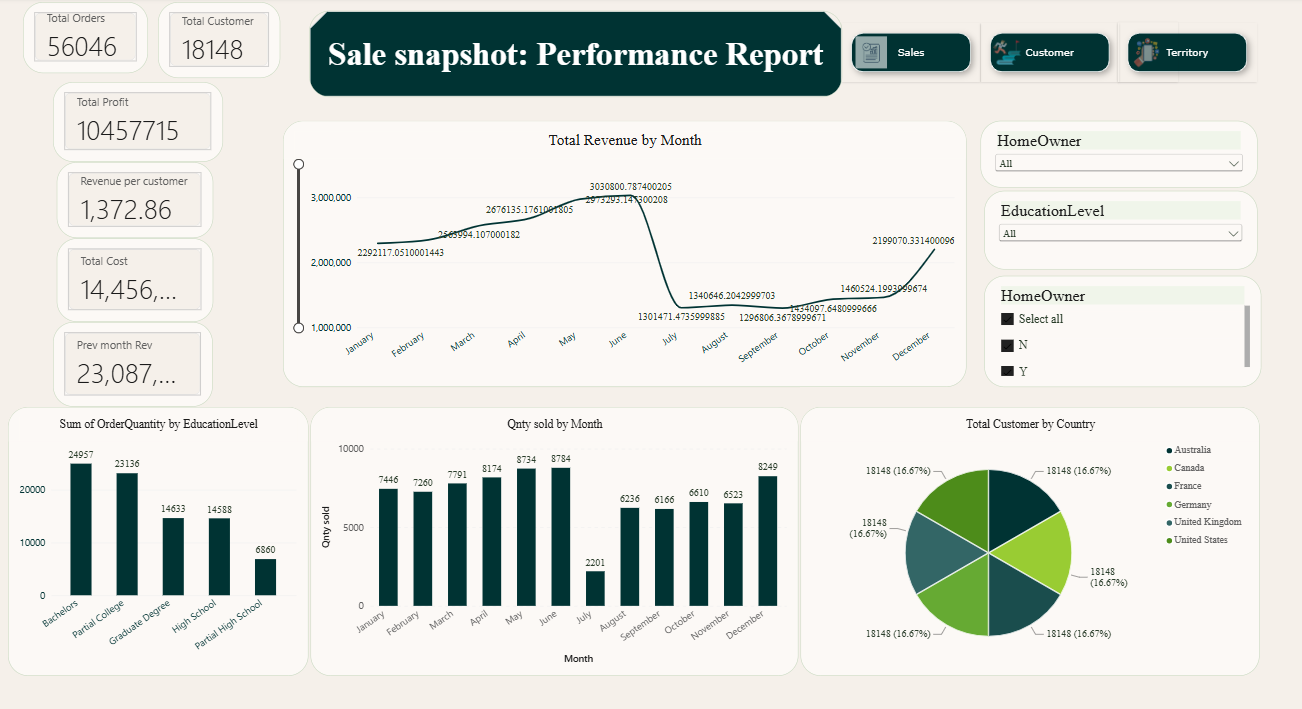

Layout of this report page (visuals, bound fields, positions):
{"tool":"powerbi","page":{"name":"Report","canvas":[1920,1080],"ordinal":0},"visuals":[{"type":"shape","box":[1242,38,204,86],"z":0},{"type":"shape","box":[457.5,20,785,127.5],"z":1000},{"type":"shape","box":[1446,38,204,86],"z":2000},{"type":"shape","box":[1650,38,204,86],"z":3000},{"type":"cardVisual","fields":{"Data":["Measure Table.Total Profit"]},"box":[81,125.2,250.3,117.8],"z":4000},{"type":"cardVisual","fields":{"Data":["Measure Table.Total Orders"]},"box":[36.8,7.4,184.1,104.9],"z":5000},{"type":"cardVisual","fields":{"Data":["Measure Table.Total Customer"]},"box":[235.6,7.4,180.4,112.3],"z":6000},{"type":"cardVisual","fields":{"Data":["Measure Table.Revenue per customer"]},"box":[86.5,242.9,230.1,112.3],"z":7000},{"type":"cardVisual","fields":{"Data":["Measure Table.Total Cost"]},"box":[86.5,355.2,230.1,123.3],"z":8000},{"type":"lineChart","fields":{"Category":["Calender Lookup.Date.Variation.Date Hierarchy.Month"],"Y":["Measure Table.Total Revenue"]},"box":[420,182,1006,392],"z":9000},{"type":"clusteredColumnChart","fields":{"Category":["Calender Lookup.Date.Variation.Date Hierarchy.Month"],"Y":["Measure Table.Qnty sold"]},"box":[460,604,718,396],"z":10000},{"type":"pieChart","fields":{"Category":["Territory Lookup.Country"],"Y":["Measure Table.Total Customer"]},"box":[1182,604,676,396],"z":11000},{"type":"cardVisual","fields":{"Data":["Measure Table.Prev month Rev"]},"box":[81,478.5,235.6,125.2],"z":12000},{"type":"clusteredColumnChart","fields":{"Category":["Customer Lookup.EducationLevel"],"Y":["Sum(Sales Data.OrderQuantity)"]},"box":[14,604,442,396],"z":13000},{"type":"image","box":[1263.3,51.7,46.7,60],"z":14000},{"type":"image","box":[1465,51.7,41.7,60],"z":15000},{"type":"image","box":[1650,36.7,88.3,88.3],"z":16000},{"type":"slicer","fields":{"Values":["Customer Lookup.HomeOwner"]},"box":[1446,182,408,98],"z":17000},{"type":"slicer","fields":{"Values":["Customer Lookup.HomeOwner"]},"box":[1452,410,408,164],"z":18000},{"type":"slicer","title":"Education Level","fields":{"Values":["Customer Lookup.EducationLevel"]},"box":[1452,286,402,116],"z":19000}]}

Visuals, with their boxes on the page's 1920x1080 design canvas (x1, y1, x2, y2). These are canvas units, not pixel positions in the 1302x709 screenshot, which may show the page scaled, cropped or inside an application window:
shape: x1=1242, y1=38, x2=1446, y2=124
shape: x1=458, y1=20, x2=1242, y2=148
shape: x1=1446, y1=38, x2=1650, y2=124
shape: x1=1650, y1=38, x2=1854, y2=124
cardVisual - Measure Table.Total Profit: x1=81, y1=125, x2=331, y2=243
cardVisual - Measure Table.Total Orders: x1=37, y1=7, x2=221, y2=112
cardVisual - Measure Table.Total Customer: x1=236, y1=7, x2=416, y2=120
cardVisual - Measure Table.Revenue per customer: x1=86, y1=243, x2=317, y2=355
cardVisual - Measure Table.Total Cost: x1=86, y1=355, x2=317, y2=478
lineChart - Calender Lookup.Date.Variation.Date Hierarchy.Month x Measure Table.Total Revenue: x1=420, y1=182, x2=1426, y2=574
clusteredColumnChart - Calender Lookup.Date.Variation.Date Hierarchy.Month x Measure Table.Qnty sold: x1=460, y1=604, x2=1178, y2=1000
pieChart - Territory Lookup.Country x Measure Table.Total Customer: x1=1182, y1=604, x2=1858, y2=1000
cardVisual - Measure Table.Prev month Rev: x1=81, y1=478, x2=317, y2=604
clusteredColumnChart - Customer Lookup.EducationLevel x Sum(Sales Data.OrderQuantity): x1=14, y1=604, x2=456, y2=1000
image: x1=1263, y1=52, x2=1310, y2=112
image: x1=1465, y1=52, x2=1507, y2=112
image: x1=1650, y1=37, x2=1738, y2=125
slicer - Customer Lookup.HomeOwner: x1=1446, y1=182, x2=1854, y2=280
slicer - Customer Lookup.HomeOwner: x1=1452, y1=410, x2=1860, y2=574
"Education Level" slicer: x1=1452, y1=286, x2=1854, y2=402
